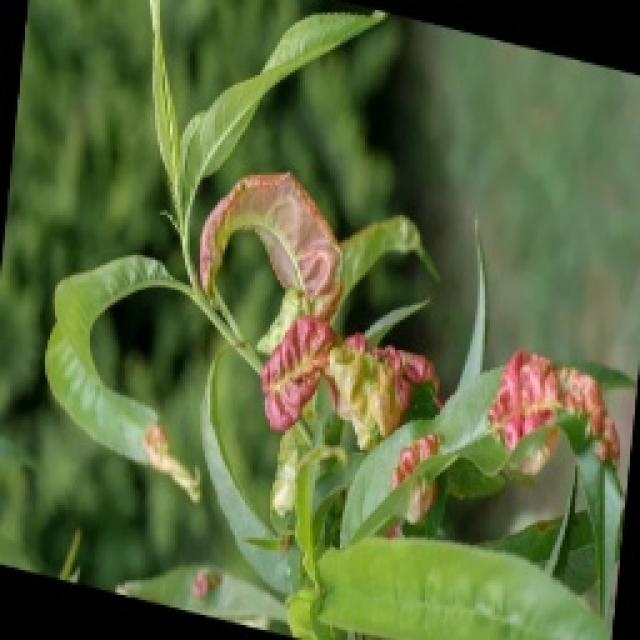peach_leaf_curl: (250, 296, 584, 462)
